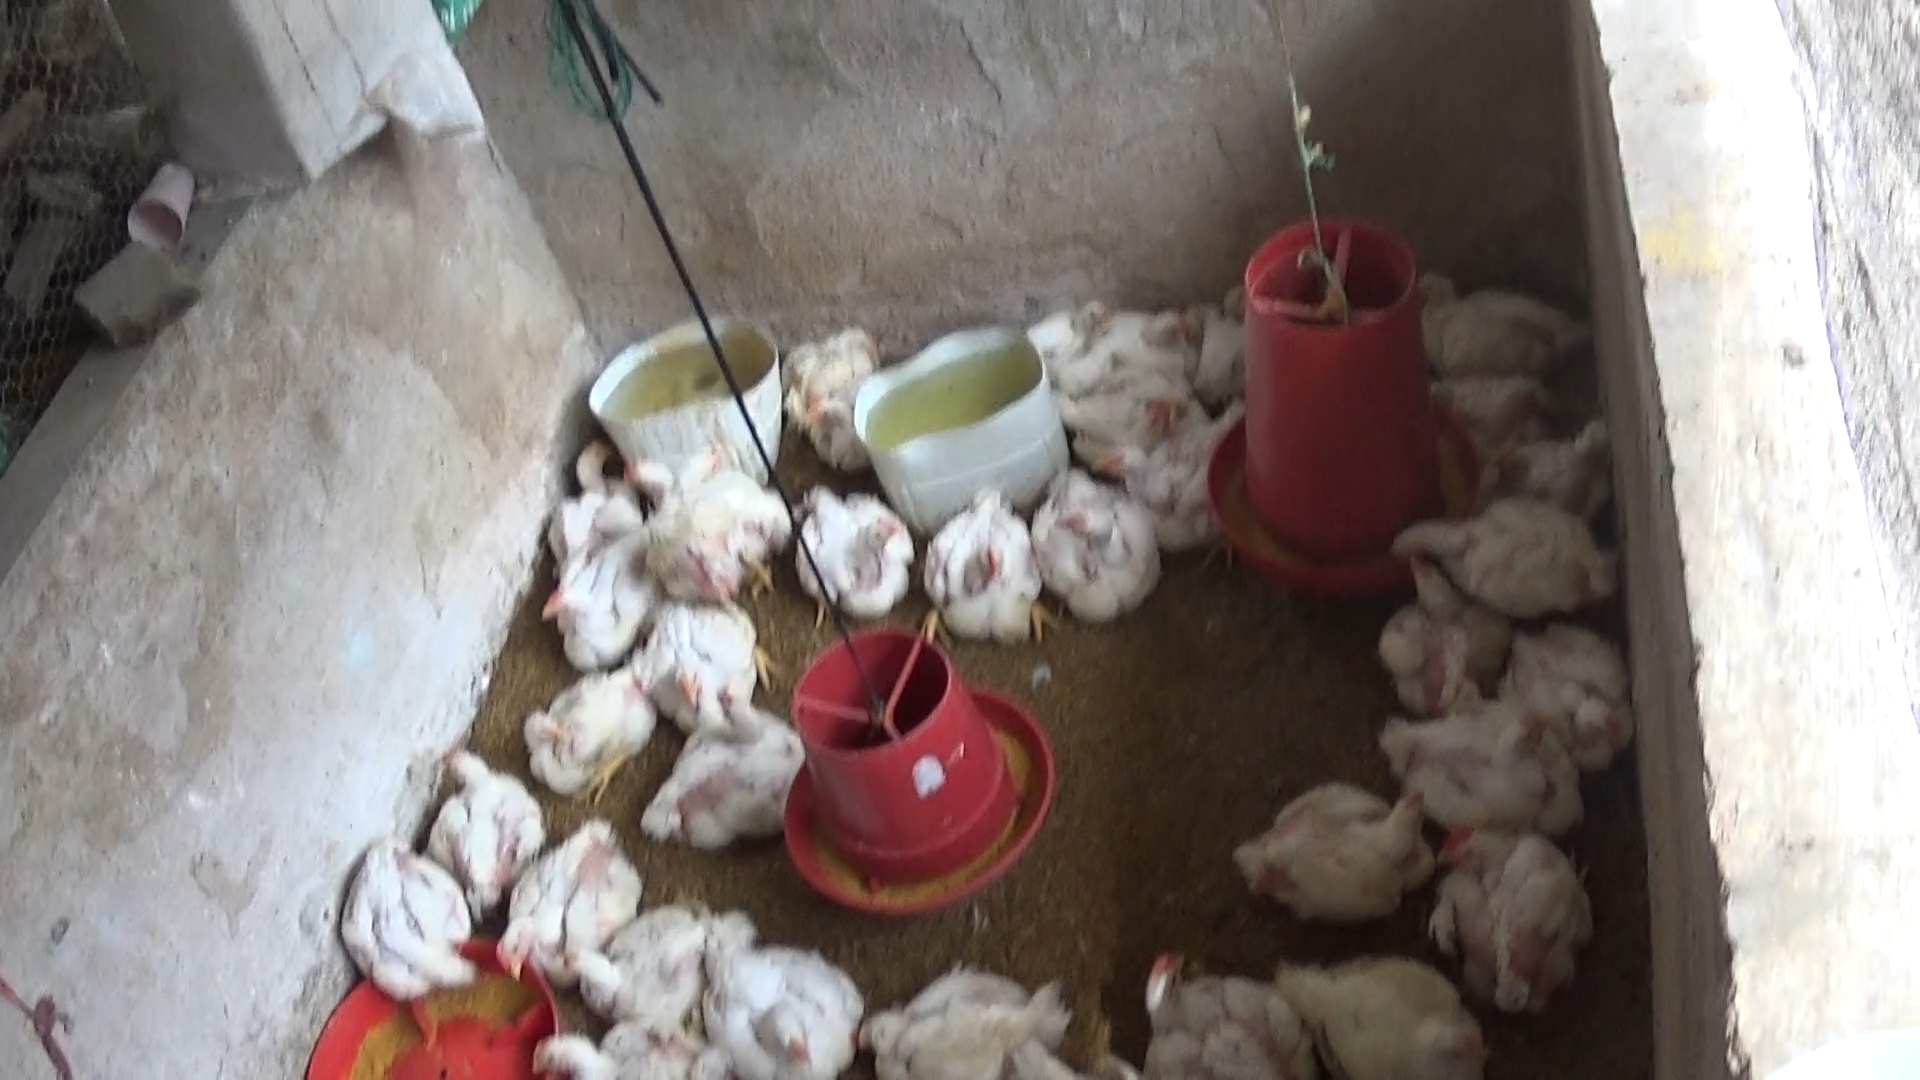Pollos: (1204, 778, 1453, 924), (1350, 699, 1586, 852), (1427, 822, 1609, 1019), (1112, 940, 1327, 1080), (1275, 951, 1505, 1077), (632, 686, 803, 855), (1389, 505, 1618, 628), (1375, 550, 1518, 731), (847, 967, 1068, 1080), (334, 815, 458, 1015), (640, 451, 798, 607), (496, 815, 638, 988), (703, 932, 866, 1079), (1402, 261, 1592, 386), (922, 495, 1062, 651), (1025, 465, 1160, 626), (556, 907, 748, 1021), (1091, 419, 1245, 559), (1491, 628, 1640, 767), (525, 651, 655, 802), (430, 733, 541, 899), (795, 483, 920, 621), (522, 1004, 716, 1080), (546, 537, 647, 680), (1054, 371, 1215, 460), (641, 603, 756, 727), (1491, 398, 1618, 508), (785, 332, 874, 464), (542, 433, 634, 560), (1030, 295, 1122, 381), (1104, 306, 1199, 369)
